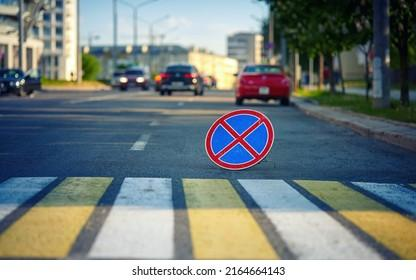No Stopping: (200, 103, 278, 172)
